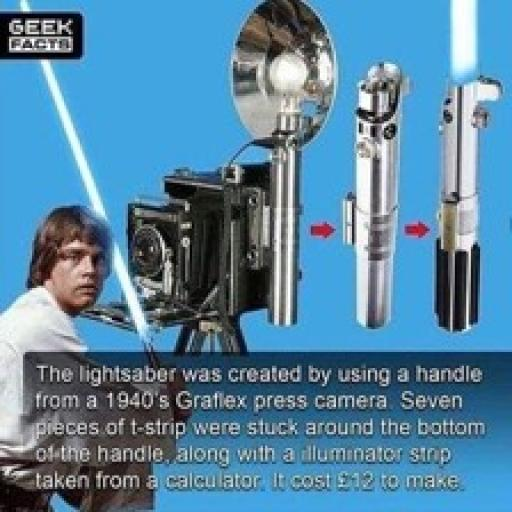lightsaber: (19, 0, 161, 368), (438, 0, 498, 338), (344, 62, 409, 330)
